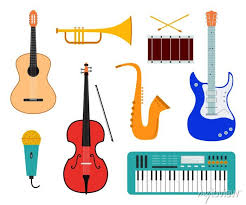Piano: (120, 143, 246, 200)
Saxophone: (106, 58, 176, 158)
Violin: (45, 60, 129, 205)
